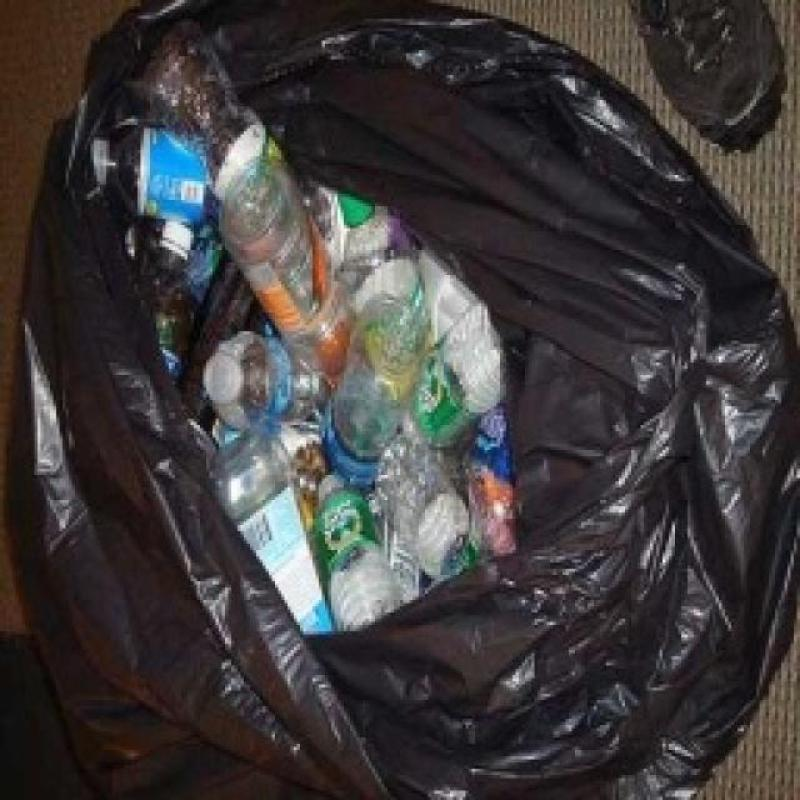botella: (222, 170, 340, 358), (375, 443, 487, 584), (86, 127, 236, 225), (312, 474, 407, 628), (406, 306, 504, 454), (333, 188, 427, 342), (328, 322, 412, 476), (136, 222, 202, 400), (206, 334, 319, 431)
